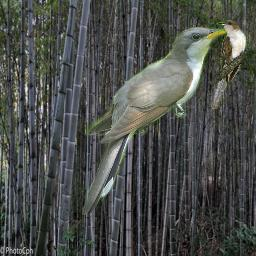Cuckoo: (82, 27, 227, 215), (211, 20, 247, 109)
